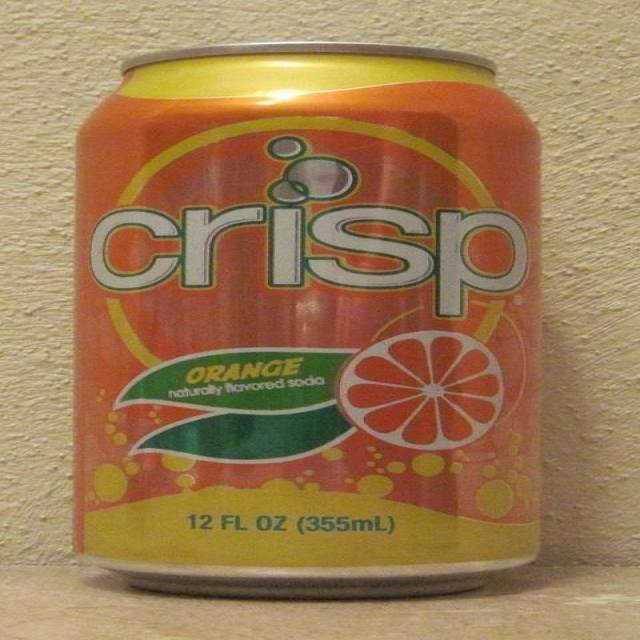tin can: (69, 41, 548, 602)
